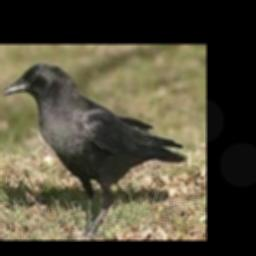Crow: (2, 61, 185, 240)
